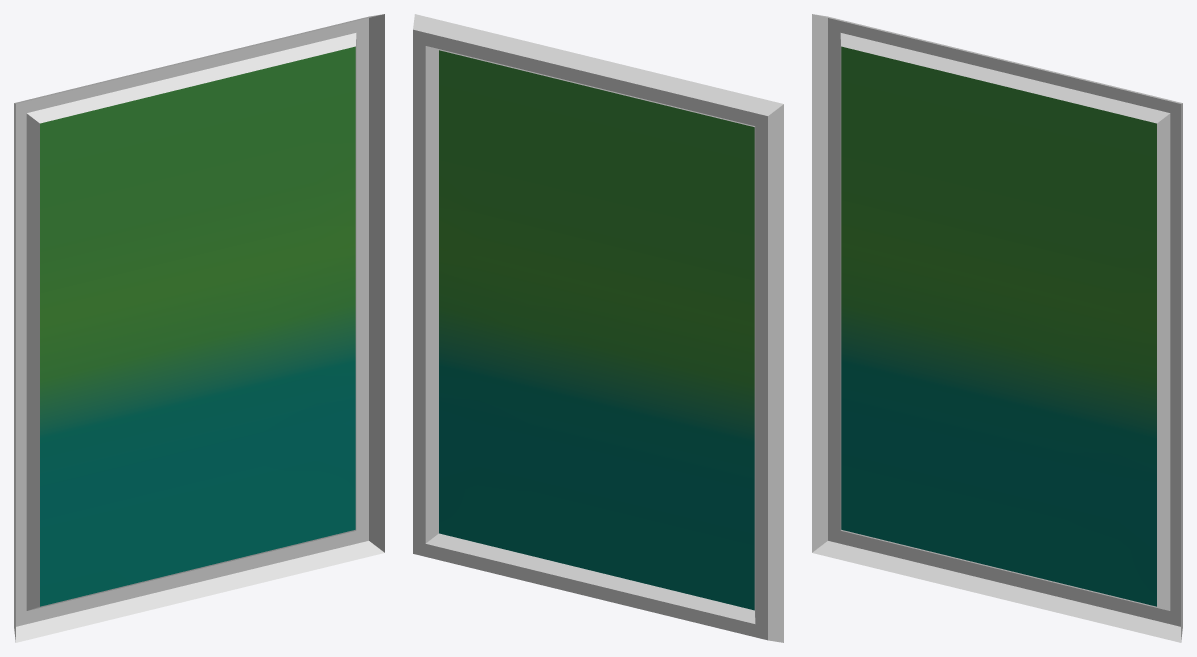
File: Tranhvedecor.fbx
The picture shows the model from 3 angles, left to right: view 1: azimuth 30°, elevation 25°; view 2: azimuth 150°, elevation 25°; view 3: azimuth 330°, elevation 25°; orthographic projection.
Visible parts, largest first — view 1: Tranhvedecor; view 2: Tranhvedecor; view 3: Tranhvedecor.
Boxes of the visible parts, box(x1,y1,x2,y2) form: Tranhvedecor: box(14, 14, 384, 642); Tranhvedecor: box(413, 14, 783, 642); Tranhvedecor: box(812, 14, 1182, 642).
Size of the model in its own units: 204 by 284 by 8.54.
